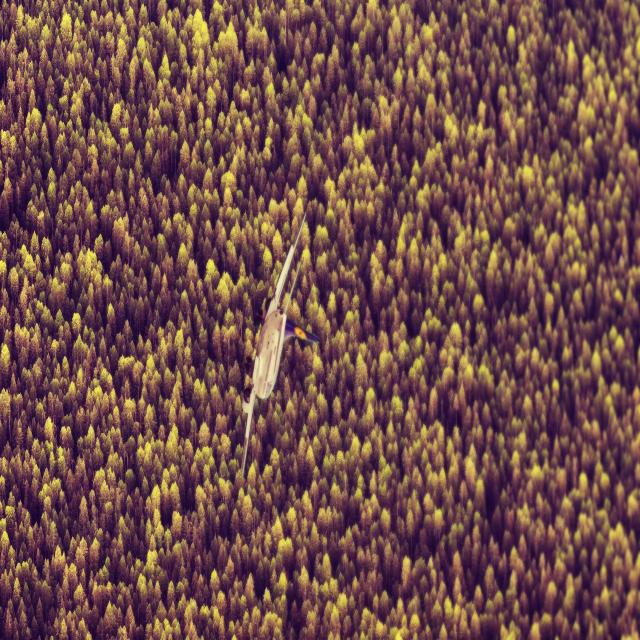airplane: (240, 209, 320, 477)
